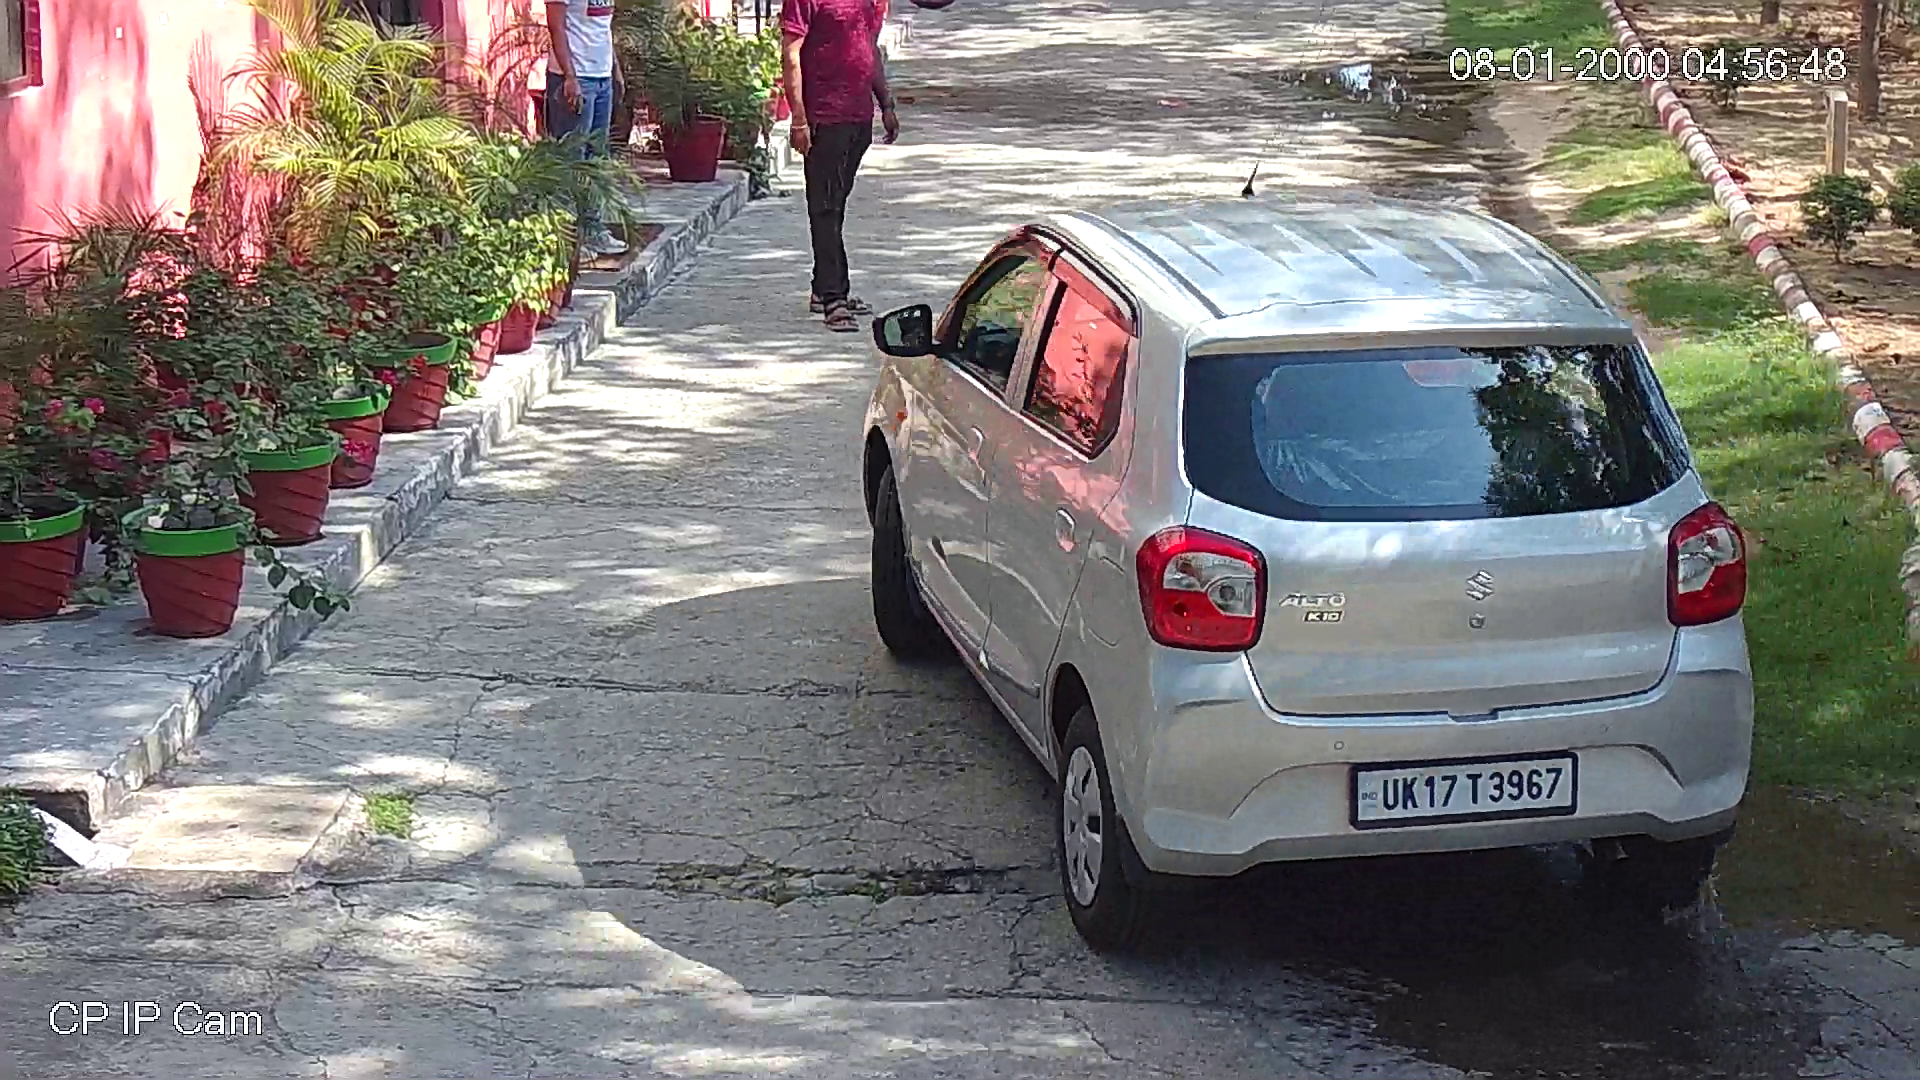plate: (1351, 752, 1577, 827)
